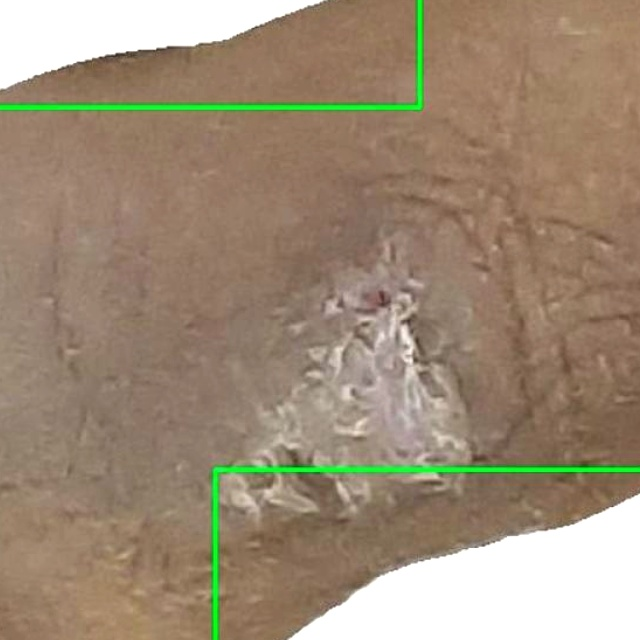Contact Dermatitis: (215, 469, 639, 639)
